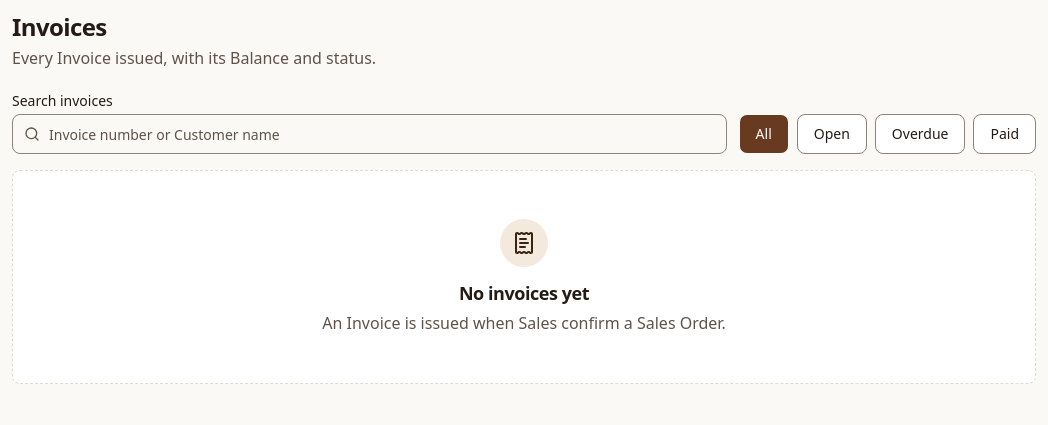
Test: Invoice list › an empty search result says what was searched
Check: the heading "No invoices yet" is shown, box [459,279,589,307]
In the search field labelled "Search invoices": (369, 134) [12,114,727,154], type "zzz"
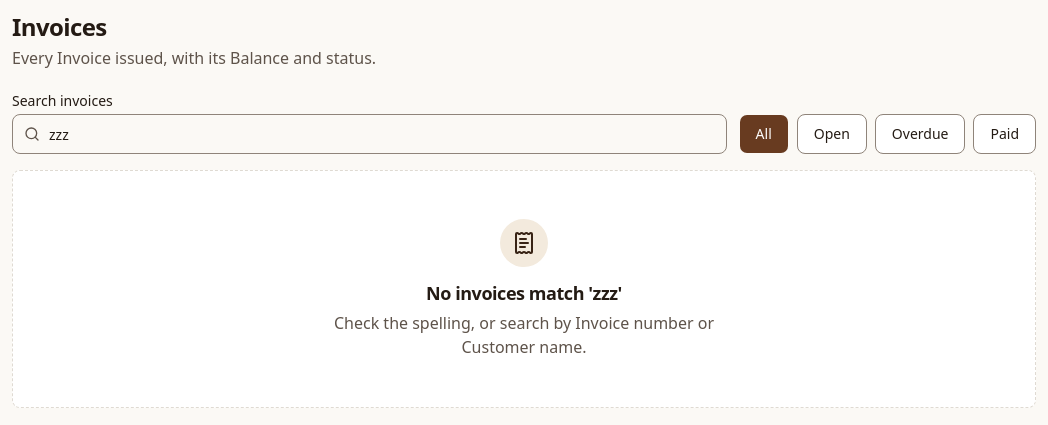
Check: the heading "No invoices match 'zzz'" is shown, box [426,279,622,307]
